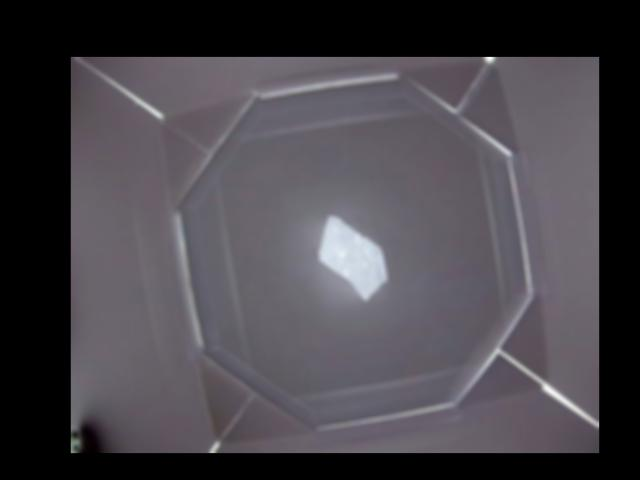China: (319, 215, 389, 301)
